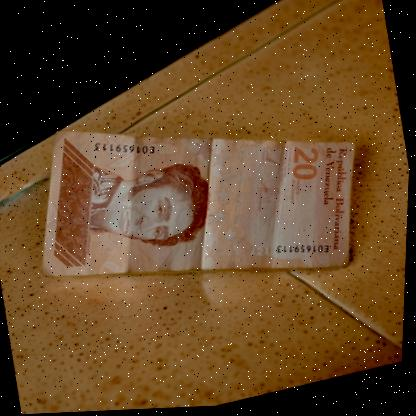twenty-front-vef: (65, 19, 338, 388)
